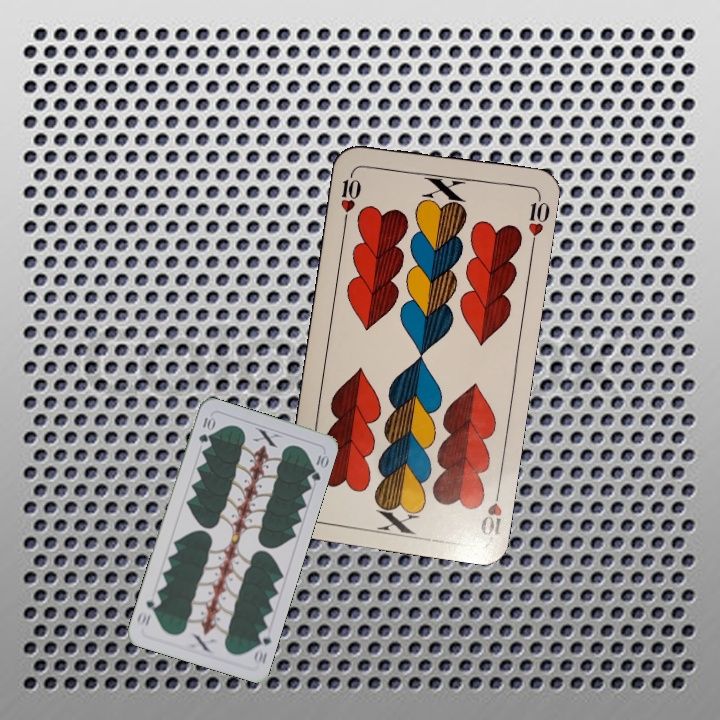G10: (249, 626, 274, 667), (194, 412, 217, 445)
H10: (474, 481, 505, 539), (336, 167, 364, 226)
